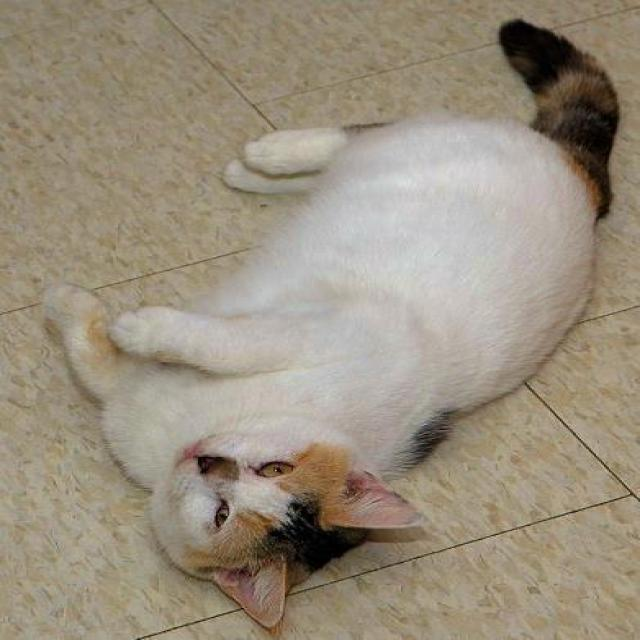Cats: (41, 17, 620, 635)
